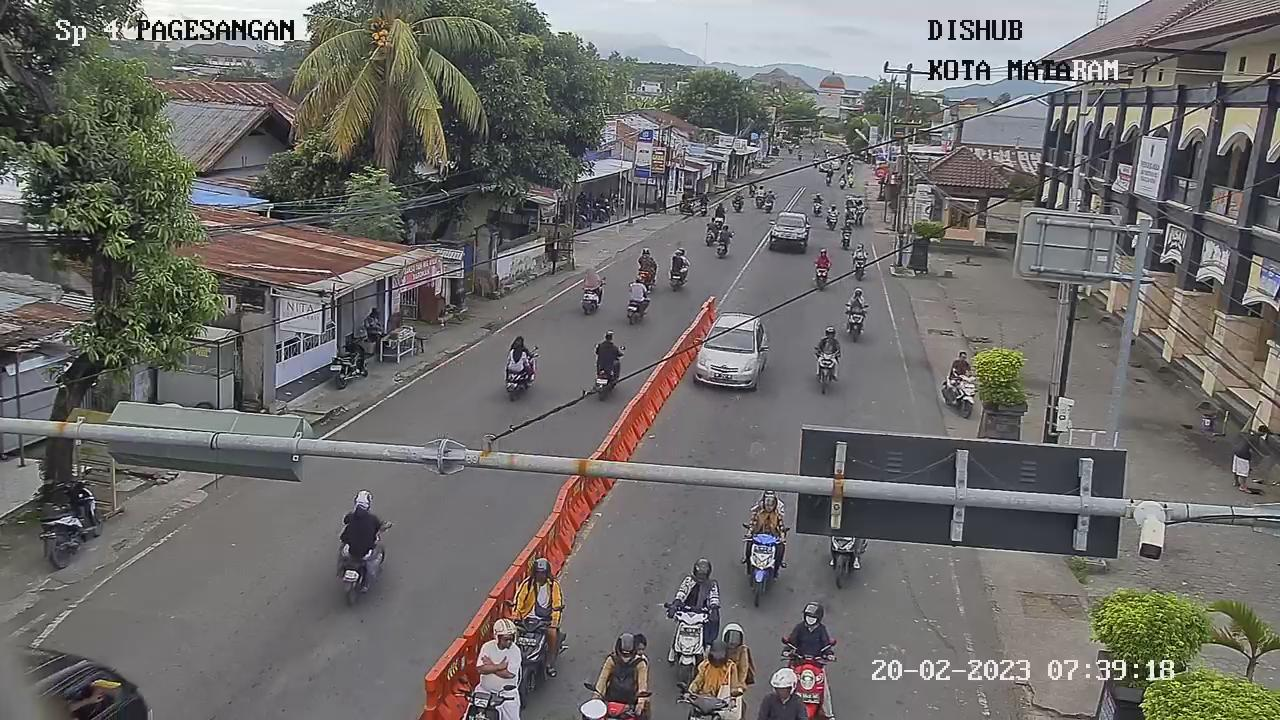car: (692, 308, 769, 394), (769, 206, 810, 252)
motorbike: (735, 523, 789, 606), (661, 603, 711, 684), (506, 612, 554, 693), (785, 649, 832, 720), (826, 525, 867, 586), (763, 667, 797, 720), (810, 346, 841, 393), (952, 370, 979, 420), (843, 301, 868, 340), (811, 262, 833, 293), (850, 252, 868, 282), (840, 229, 852, 250), (825, 213, 838, 231), (810, 200, 822, 218)
person: (467, 615, 528, 698), (591, 626, 648, 705), (694, 629, 756, 700), (333, 486, 393, 556), (667, 557, 725, 621), (514, 555, 568, 622), (785, 600, 835, 665), (739, 486, 788, 540), (504, 336, 542, 380), (595, 337, 624, 383), (946, 350, 973, 385), (625, 281, 649, 320), (814, 326, 841, 358), (579, 264, 603, 299), (665, 247, 693, 276), (845, 285, 869, 316), (633, 245, 655, 273), (813, 248, 832, 270), (714, 222, 732, 245), (851, 241, 868, 262), (698, 189, 711, 208), (706, 217, 719, 233), (714, 202, 727, 218), (763, 189, 775, 203), (755, 184, 766, 199), (840, 223, 852, 236), (811, 192, 823, 204), (828, 203, 839, 216)
